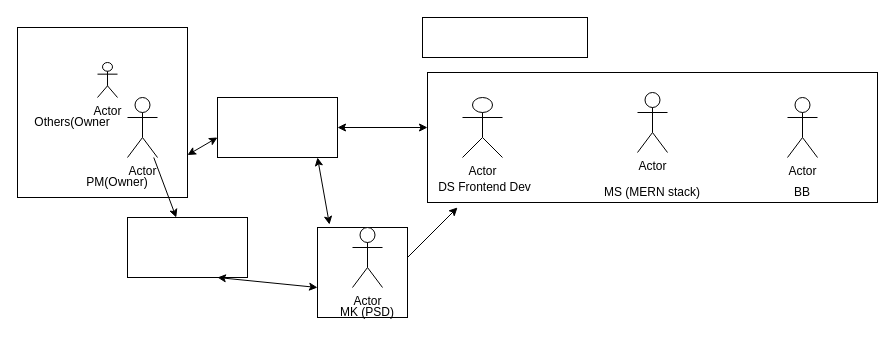
Image size: 895x345. Some labels were removed from this diagram. The shapes that lost their labels are listed below. From the top down, each one's centre as x and y in pixels, then its label:
the point at 505,37: UI (major), API integration(minor)
the point at 277,127: Requirment anylysis
the point at 187,247: Design Specification
